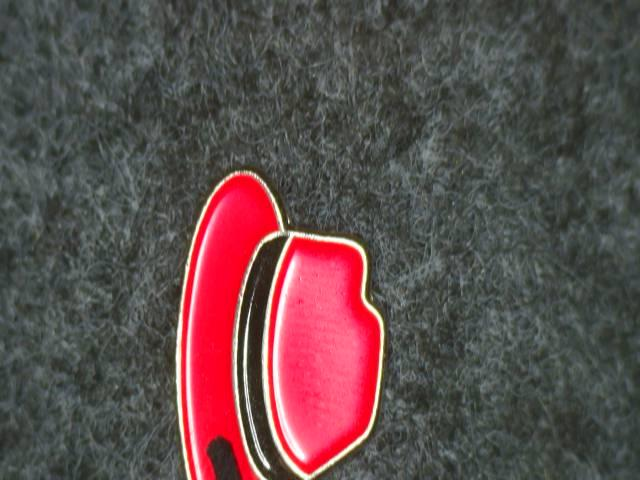Red-Hat: (146, 133, 449, 480)
Scratch: (194, 430, 266, 480)
